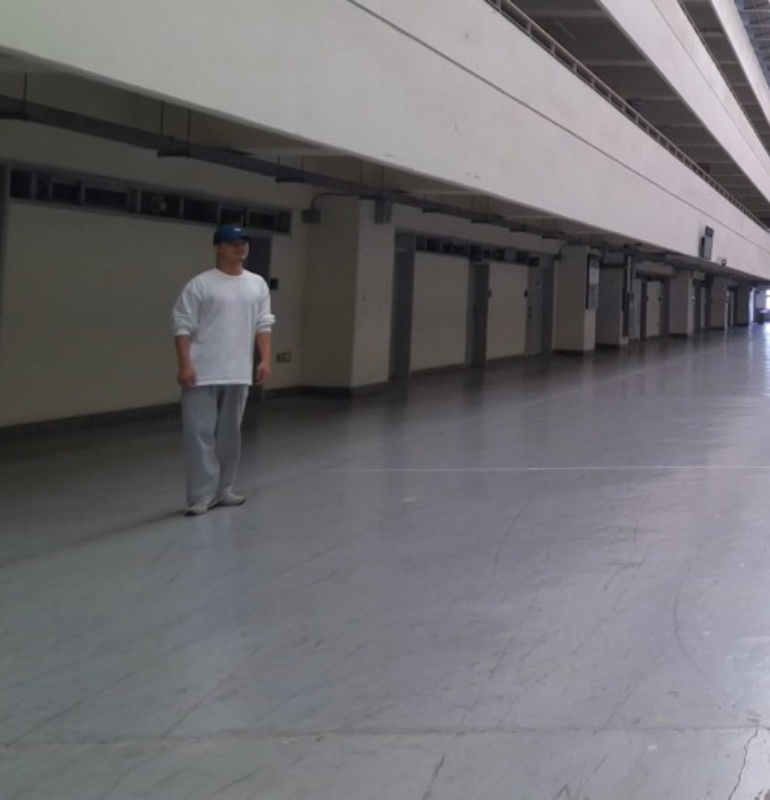person: (173, 223, 277, 520)
